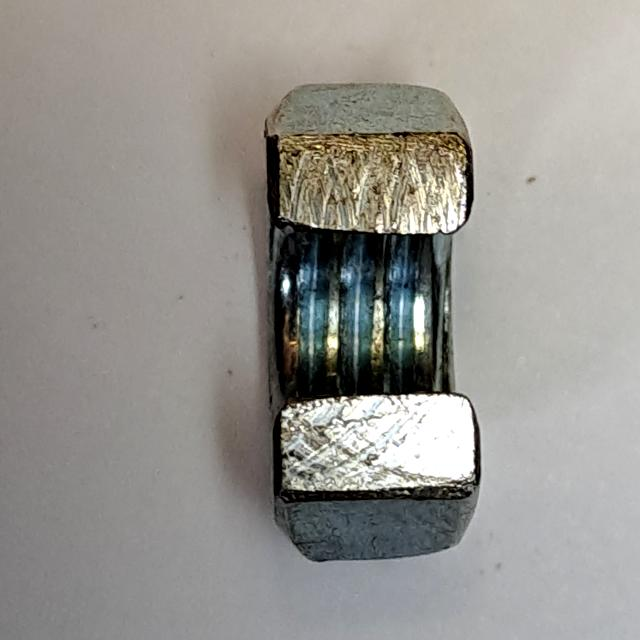Side-Fracture: (248, 72, 497, 578)
